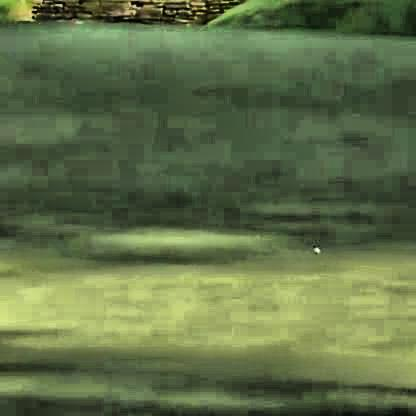golfball: (310, 241, 317, 251)
